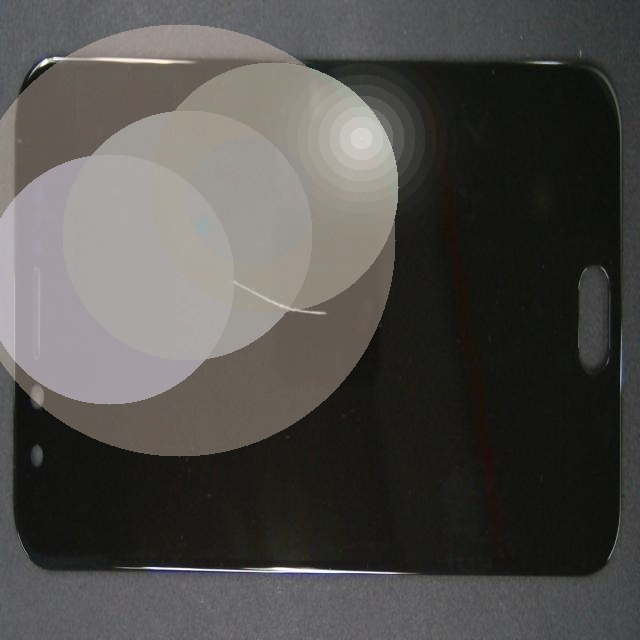scratch: (219, 180, 449, 440)
